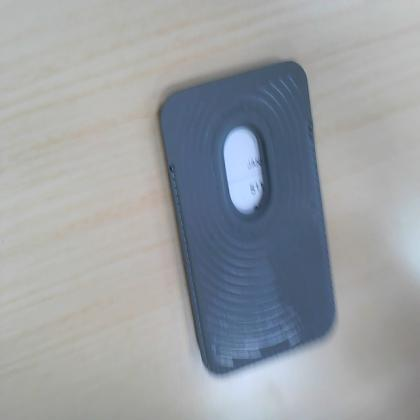pics: (161, 62, 335, 374)
